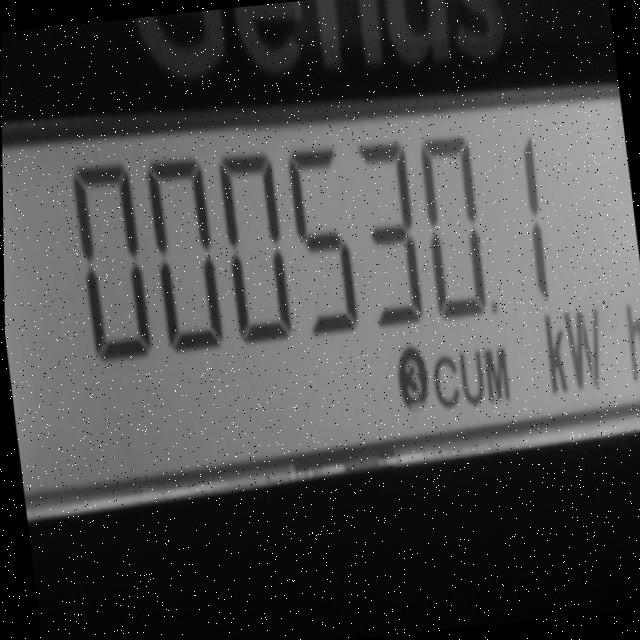.: (489, 298, 505, 320)
0: (53, 135, 165, 380), (137, 150, 232, 365), (212, 140, 305, 356), (409, 126, 493, 327)
1: (496, 115, 568, 308)
3: (351, 140, 430, 337)
5: (281, 138, 369, 340)
